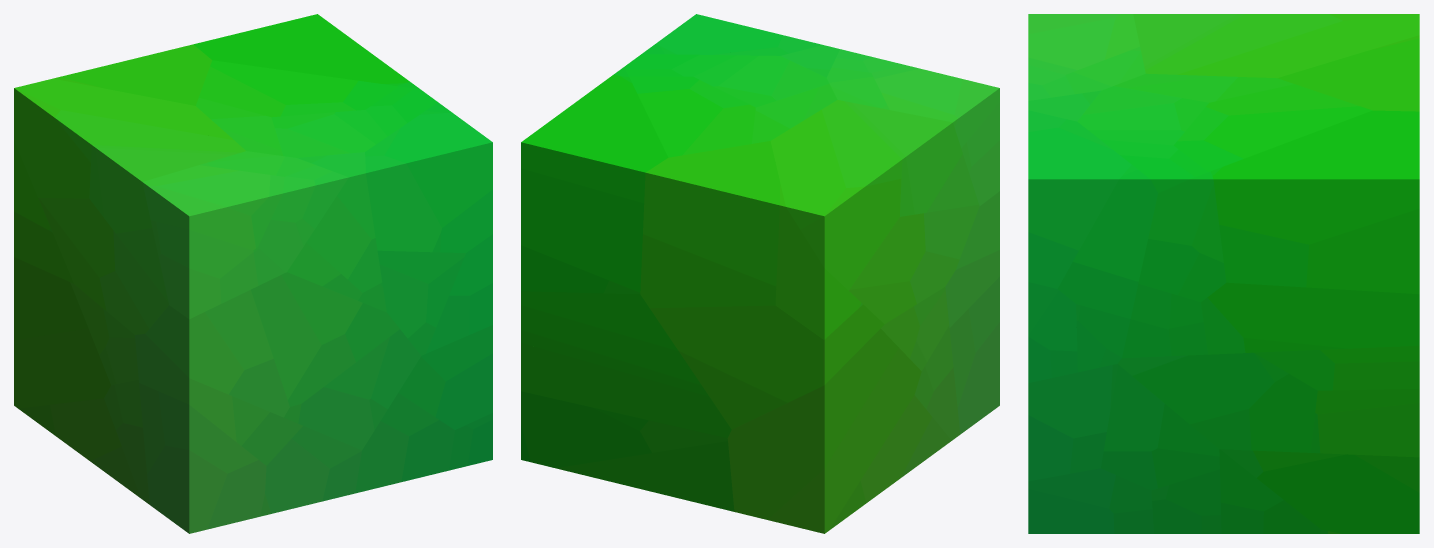
Rendered from cubecollapsetest_mesh.fbx.
The picture shows the model from 3 angles, left to right: view 1: azimuth 30°, elevation 25°; view 2: azimuth 150°, elevation 25°; view 3: azimuth 270°, elevation 25°; orthographic projection. The views are drawn at different scales.
Parts seen in each view (by area): view 1: MESH; view 2: MESH; view 3: MESH.
Boxes of the visible parts, x1=… form: MESH: x1=14, y1=14, x2=492, y2=533; MESH: x1=521, y1=14, x2=999, y2=533; MESH: x1=1028, y1=14, x2=1419, y2=533.
Size of the model in its own units: 100 by 100 by 100.
